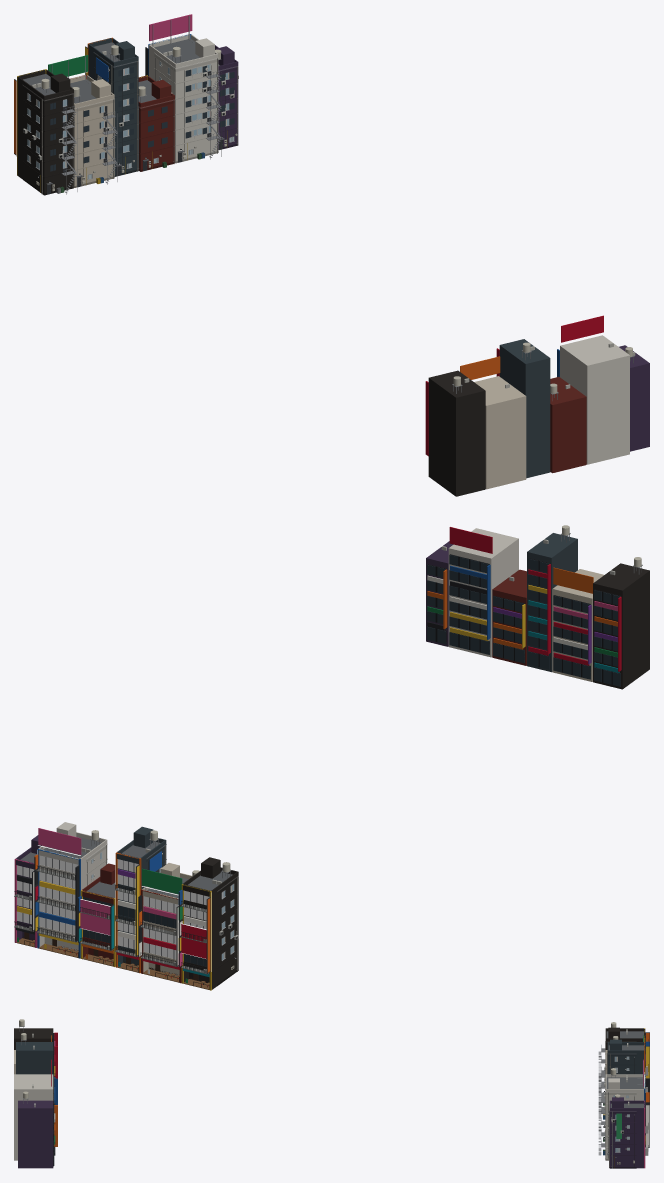
File: canalfront.glb
The picture shows the model from 3 angles, top to bottom: view 1: azimuth 30°, elevation 25°; view 2: azimuth 150°, elevation 25°; view 3: azimuth 270°, elevation 25°; orthographic projection. The views are drawn at different scales.
Visible parts, largest first — view 1: canalfront_e_body, canalfront_e_lo_mesh, canalfront_a_body, canalfront_a_lo_mesh, canalfront_b_body, canalfront_b_lo_mesh, canalfront_c_lo_mesh, canalfront_c_body, canalfront_d_body, canalfront_d_lo_mesh, canalfront_f_body, canalfront_f_lo_mesh; view 2: canalfront_e_lo_mesh, canalfront_a_lo_mesh, canalfront_a_body, canalfront_e_body, canalfront_b_lo_mesh, canalfront_c_lo_mesh, canalfront_c_body, canalfront_b_body, canalfront_d_lo_mesh, canalfront_d_body, canalfront_f_lo_mesh, canalfront_f_body (+5 smaller); view 3: canalfront_f_lo_mesh, canalfront_f_body, canalfront_e_body, canalfront_c_lo_mesh, canalfront_e_lo_mesh, canalfront_c_body, canalfront_a_body, canalfront_a_lo_mesh, canalfront_f_signs, canalfront_b_body.
Boxes of the visible parts, x1=… form: canalfront_e_body: x1=145, y1=14, x2=221, y2=163; canalfront_e_lo_mesh: x1=557, y1=315, x2=629, y2=464; canalfront_a_body: x1=14, y1=69, x2=77, y2=195; canalfront_a_lo_mesh: x1=425, y1=370, x2=485, y2=496; canalfront_b_body: x1=48, y1=55, x2=117, y2=187; canalfront_b_lo_mesh: x1=460, y1=356, x2=526, y2=489; canalfront_c_lo_mesh: x1=496, y1=339, x2=550, y2=478; canalfront_c_body: x1=85, y1=37, x2=138, y2=176; canalfront_d_body: x1=138, y1=75, x2=174, y2=171; canalfront_d_lo_mesh: x1=550, y1=377, x2=586, y2=473; canalfront_f_body: x1=215, y1=45, x2=238, y2=150; canalfront_f_lo_mesh: x1=619, y1=345, x2=649, y2=451; canalfront_e_lo_mesh: x1=448, y1=527, x2=518, y2=657; canalfront_a_lo_mesh: x1=593, y1=557, x2=649, y2=689; canalfront_a_body: x1=178, y1=857, x2=238, y2=990; canalfront_e_body: x1=34, y1=822, x2=107, y2=958; canalfront_b_lo_mesh: x1=552, y1=567, x2=603, y2=681; canalfront_c_lo_mesh: x1=527, y1=525, x2=577, y2=672; canalfront_c_body: x1=115, y1=826, x2=166, y2=973; canalfront_b_body: x1=138, y1=863, x2=199, y2=983; canalfront_d_lo_mesh: x1=492, y1=569, x2=526, y2=665; canalfront_d_body: x1=78, y1=863, x2=115, y2=966; canalfront_f_lo_mesh: x1=426, y1=541, x2=453, y2=646; canalfront_f_body: x1=14, y1=835, x2=41, y2=947; canalfront_f_lo_mesh: x1=18, y1=1091, x2=57, y2=1168; canalfront_f_body: x1=607, y1=1094, x2=649, y2=1168; canalfront_e_body: x1=598, y1=1059, x2=649, y2=1160; canalfront_c_lo_mesh: x1=16, y1=1033, x2=57, y2=1078; canalfront_e_lo_mesh: x1=14, y1=1059, x2=57, y2=1160; canalfront_c_body: x1=607, y1=1036, x2=649, y2=1078; canalfront_a_body: x1=598, y1=1022, x2=649, y2=1105; canalfront_a_lo_mesh: x1=14, y1=1019, x2=57, y2=1049; canalfront_f_signs: x1=616, y1=1105, x2=649, y2=1146; canalfront_b_body: x1=598, y1=1035, x2=643, y2=1119.
Bounding box in the file's own units: 42.27 × 25.88 × 161.
